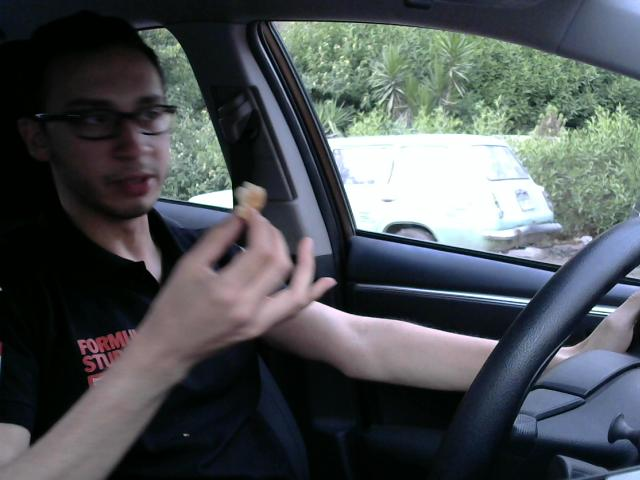Eating: (230, 171, 272, 223)
